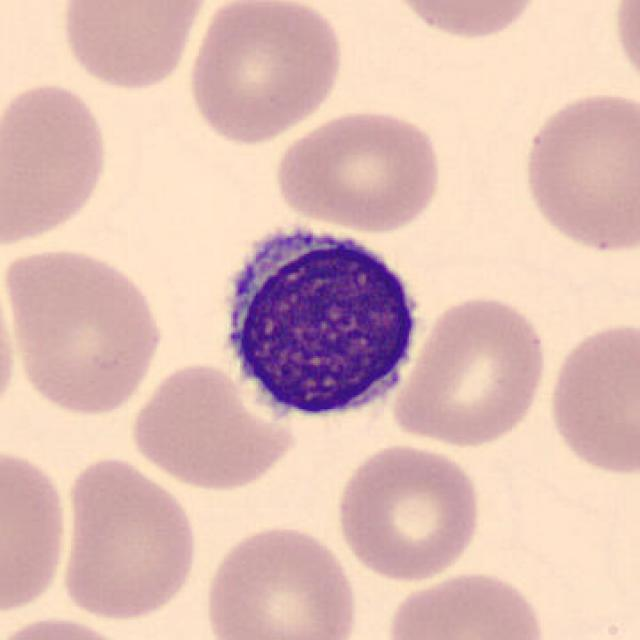Lymphocyte: (208, 213, 432, 434)
RBC: (2, 242, 169, 419), (388, 291, 551, 449), (55, 451, 201, 624), (181, 0, 348, 146), (124, 358, 300, 494), (270, 104, 446, 235), (331, 439, 485, 584), (515, 84, 640, 257), (0, 78, 114, 252), (199, 520, 361, 640), (544, 316, 638, 481), (55, 0, 211, 93), (0, 442, 73, 622), (382, 567, 551, 640), (378, 0, 547, 42), (0, 250, 23, 432), (0, 612, 148, 640), (608, 0, 640, 100)
